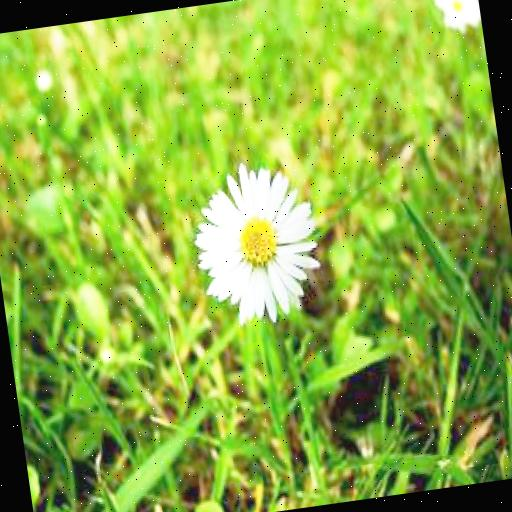daisy: (188, 160, 328, 325), (430, 0, 483, 38)
